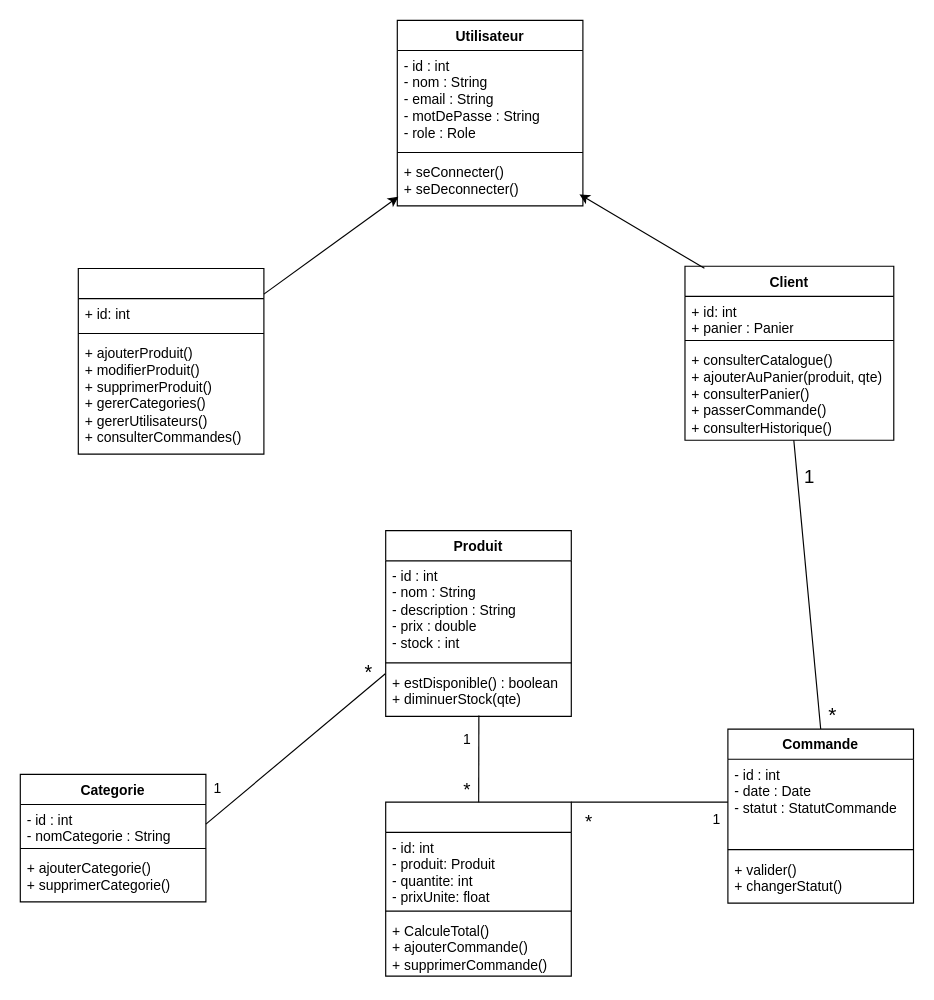
The diagram is 934 pixels wide and 1000 high, and some of its shapes have lost their labels. Each missing label, with the box of its shape:
Administrateur: (77, 267, 264, 454)
CommandeItem: (385, 801, 571, 976)
